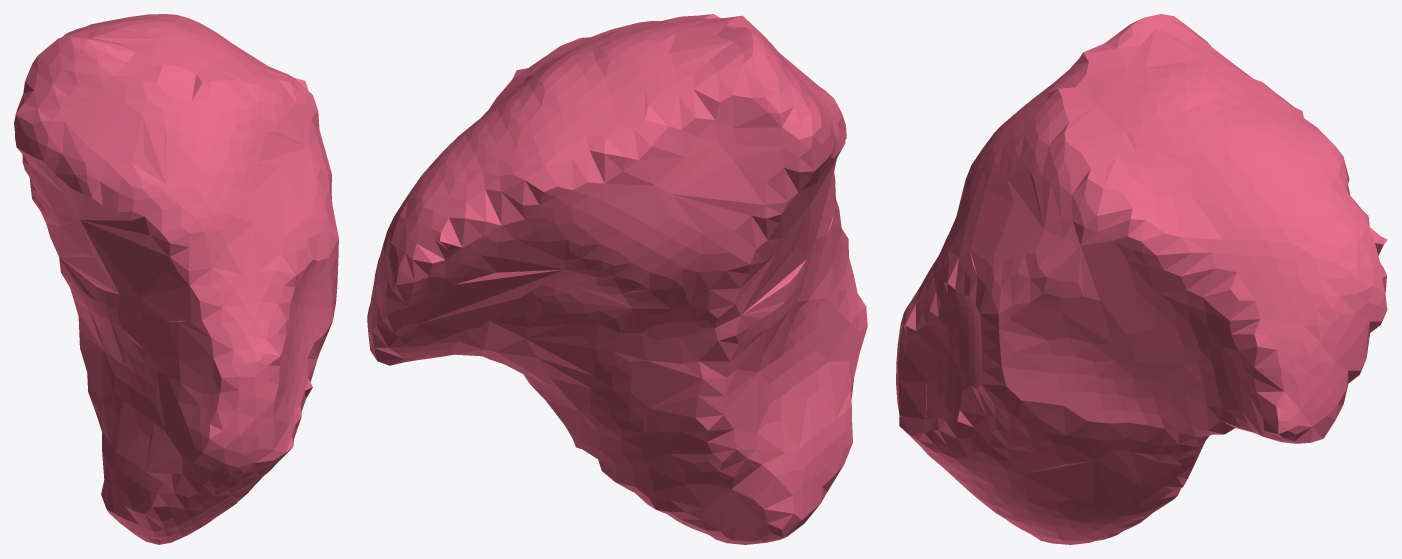
Rendered from Model_10206_LH__Basomedial_amygdaloid_nucleus__parvicellular_part_(BMPC).obj.
3 views of the same model, side by side, from view 1: azimuth 30°, elevation 25°; view 2: azimuth 150°, elevation 25°; view 3: azimuth 270°, elevation 25° (orthographic). The views are drawn at different scales.
Size of the model in its own units: 1.87 by 2.57 by 2.27.
